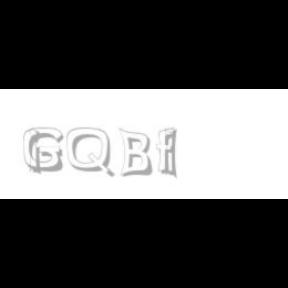B: (118, 128, 152, 178)
G: (23, 128, 63, 172)
Q: (67, 128, 113, 178)
f: (156, 128, 180, 174)
i: (29, 128, 45, 176)
l: (165, 128, 181, 180)
